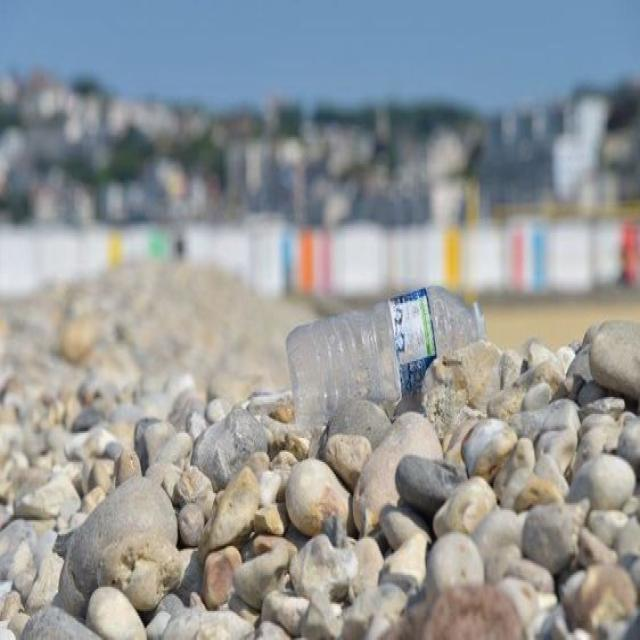garbage: (263, 277, 487, 425)
